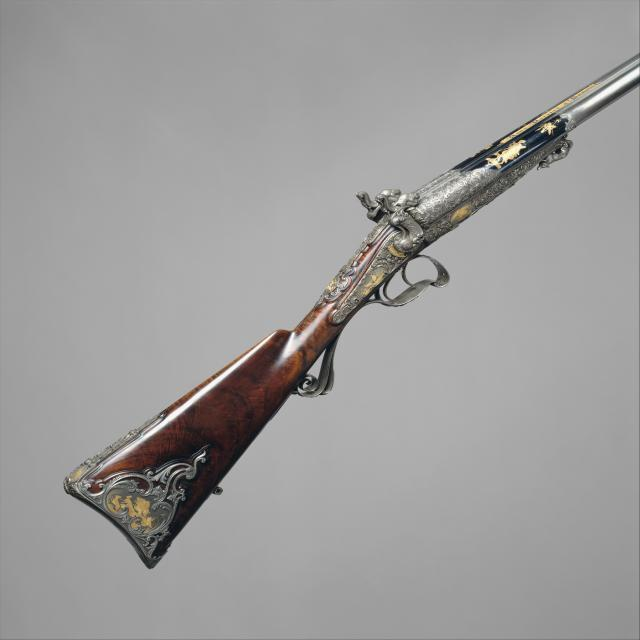shotgun: (58, 51, 640, 569)
